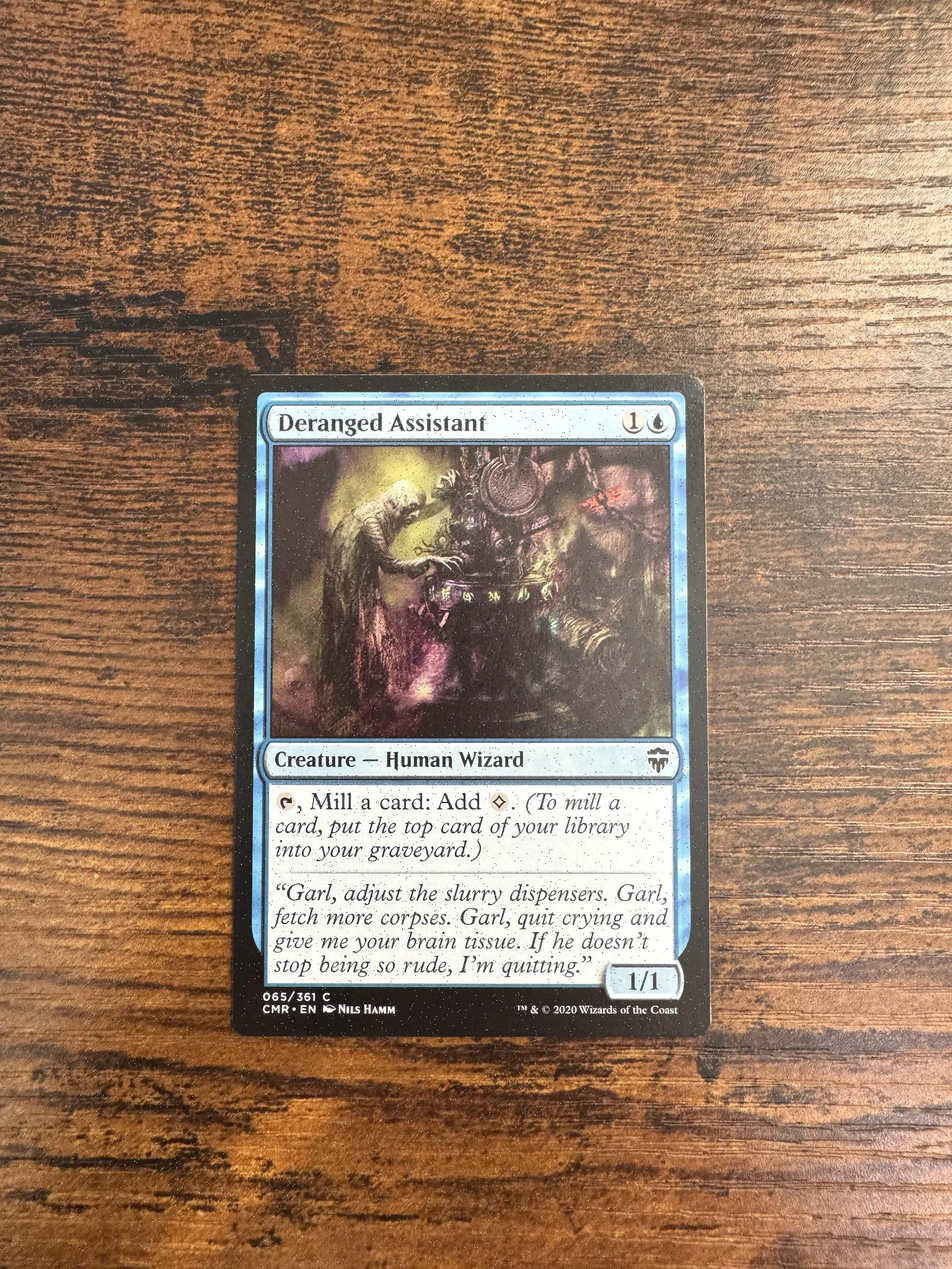card-2UtV: (232, 374, 711, 1037)
